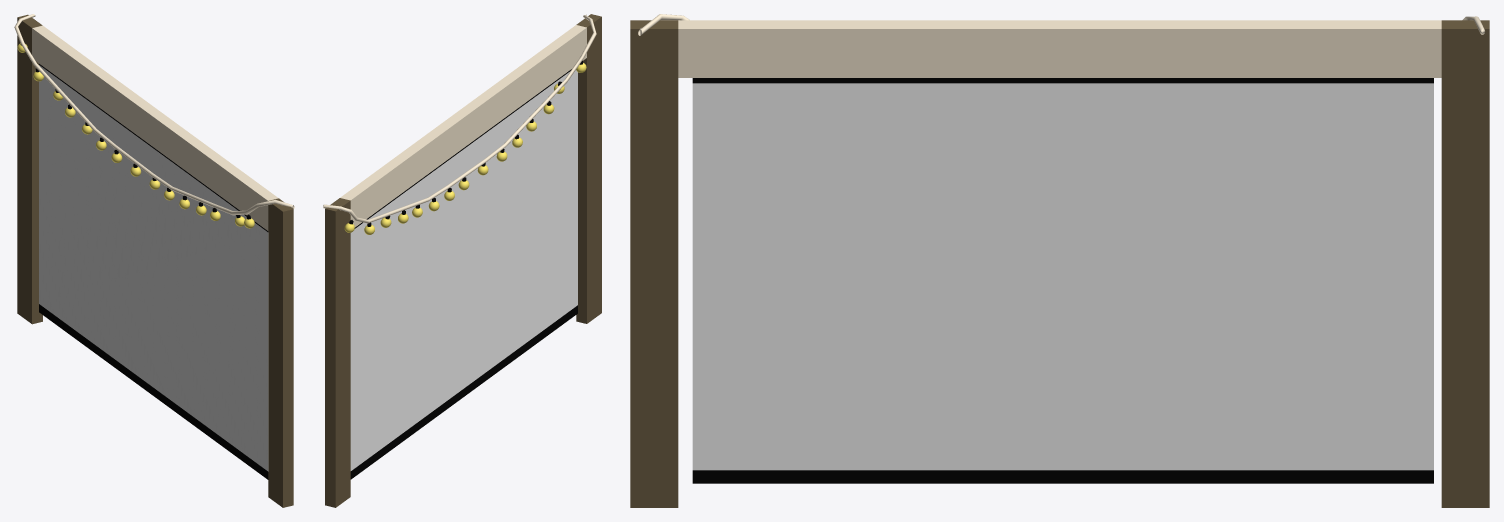
Rendered from Screen.fbx.
3 views of the same model, side by side, from view 1: azimuth 30°, elevation 25°; view 2: azimuth 150°, elevation 25°; view 3: azimuth 270°, elevation 25° (orthographic). The views are drawn at different scales.
Parts seen in each view (by area): view 1: Screen; view 2: Screen; view 3: Screen.
Boxes of the visible parts, x1,y1,x2,y2 form: Screen: (14,14,294,507); Screen: (323,14,601,507); Screen: (630,14,1489,507).
Size of the model in its own units: 0.00307 by 0.0324 by 0.0519.
Materials: 2 (2 with a texture image).
